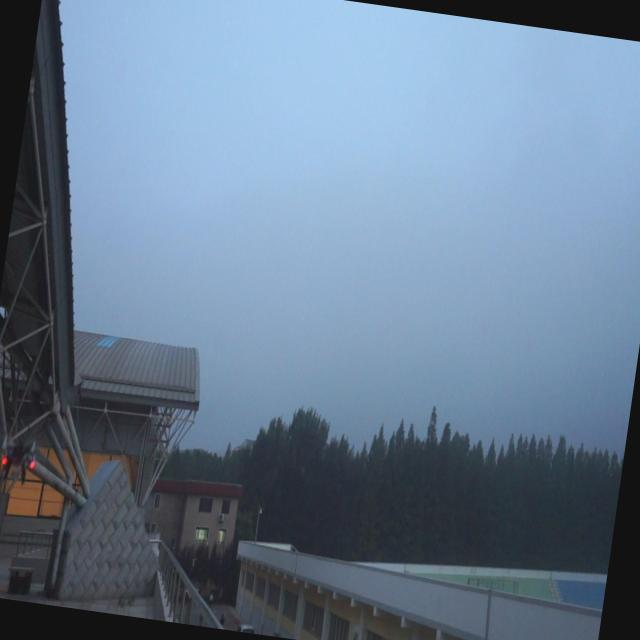drone: (0, 437, 40, 490)
